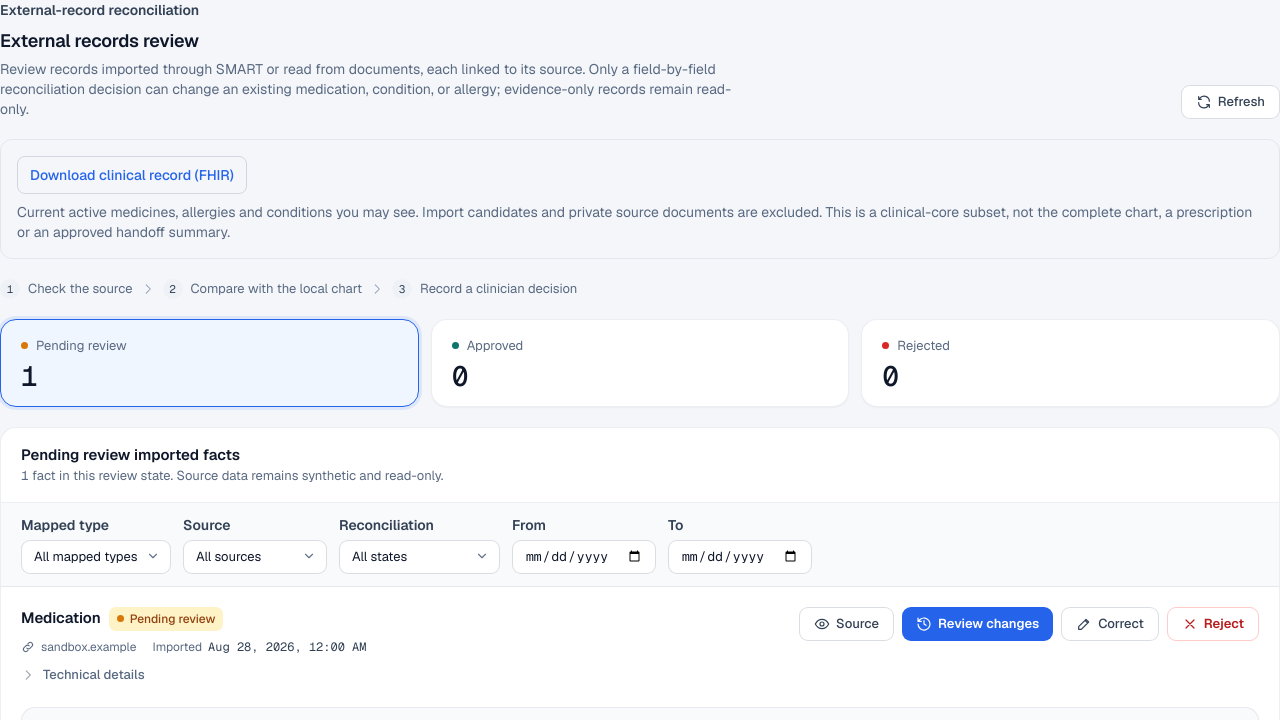
Test case: SMART import review panel › hides the old count while a different review-state filter loads
Step 1. Click the button "Approved 0" → [495, 346], box [431,319,849,406]
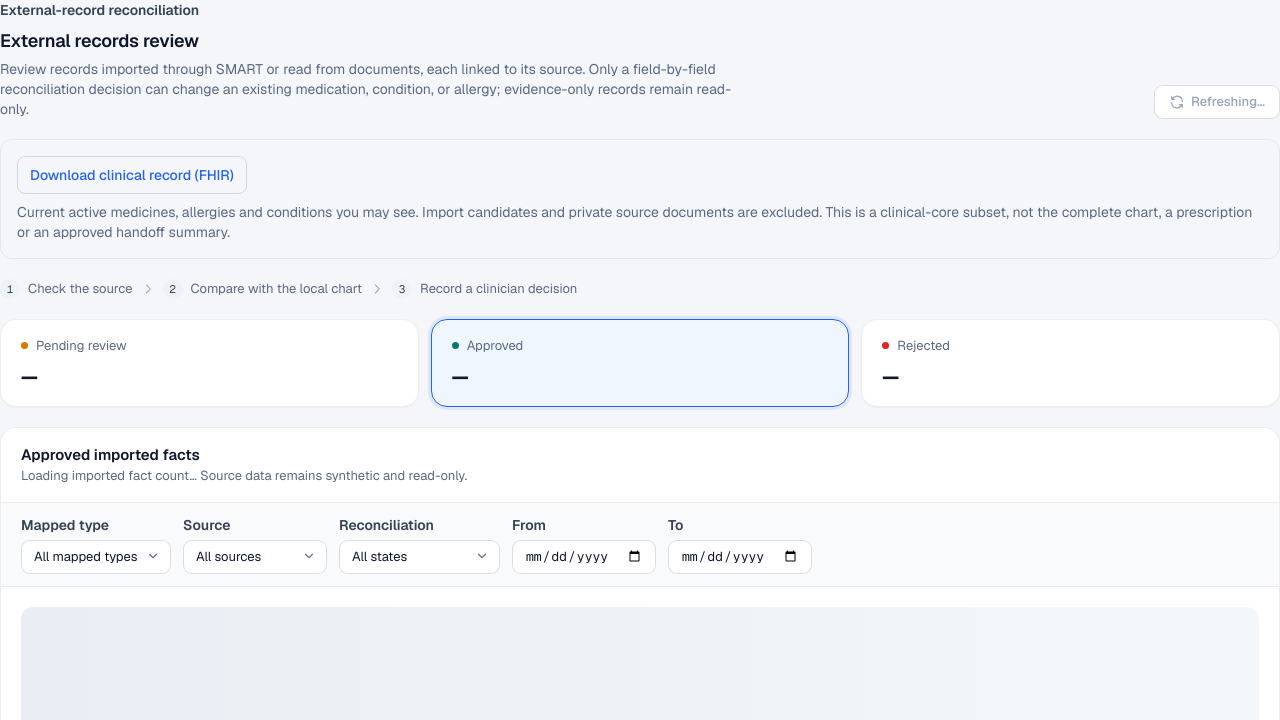
Now the text "Loading imported fact count" is shown, box [21,467,197,484]
